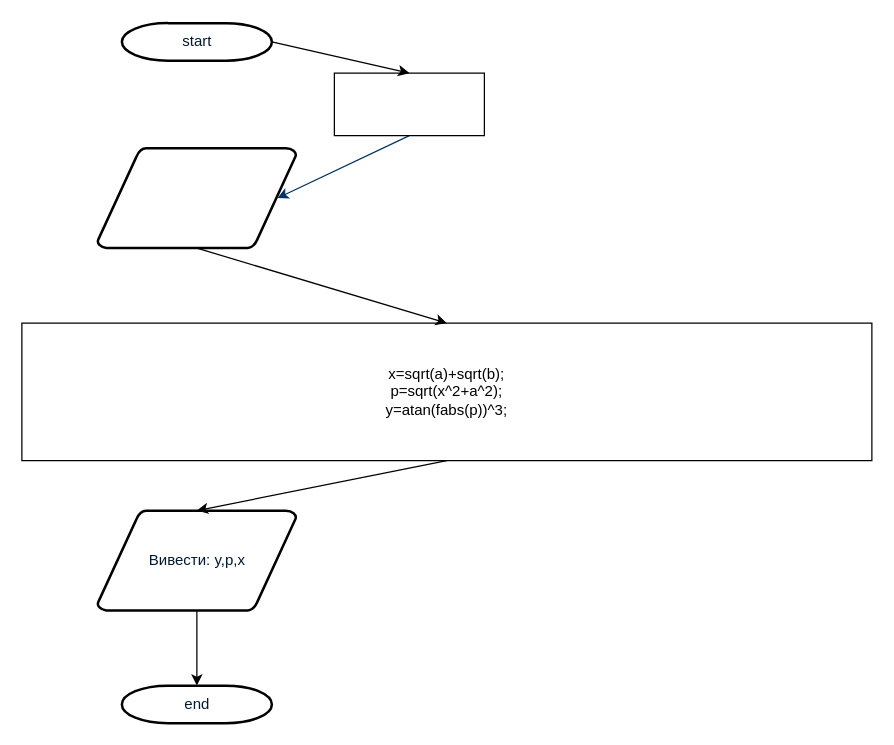
The diagram is 894 pixels wide and 745 high, and some of its shapes have lost their labels. The shapes that lost their labels are listed below. From the top down, each one's centre as x and y in pixels, then its label:
At [408,104]: "a=7; b=2.3;".
At [196,197]: "Ввести: b".
